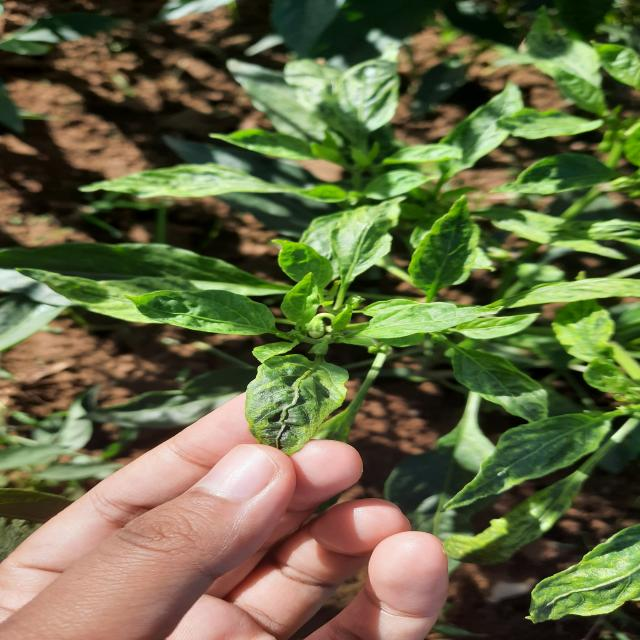thrips: (436, 408, 614, 499), (225, 339, 344, 456), (407, 190, 495, 293)
